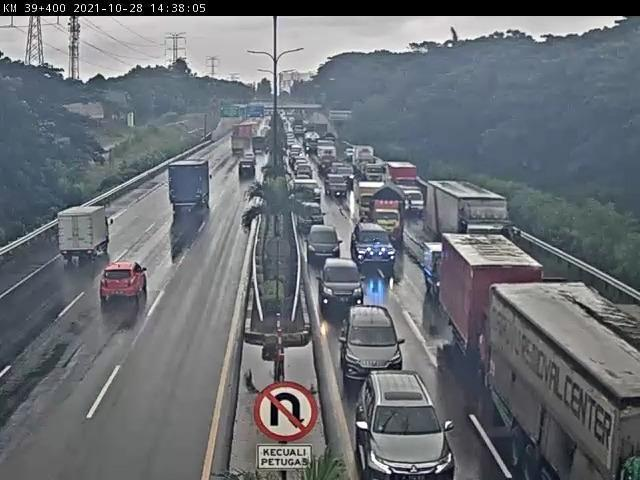car: (352, 365, 452, 480), (347, 301, 416, 385), (94, 254, 160, 320), (323, 253, 371, 325), (349, 222, 399, 276), (417, 240, 449, 307), (310, 214, 341, 273), (297, 202, 331, 245)
truck: (487, 279, 640, 480), (440, 236, 551, 371), (423, 177, 524, 270), (38, 206, 125, 277), (163, 156, 217, 222), (371, 190, 413, 249)
